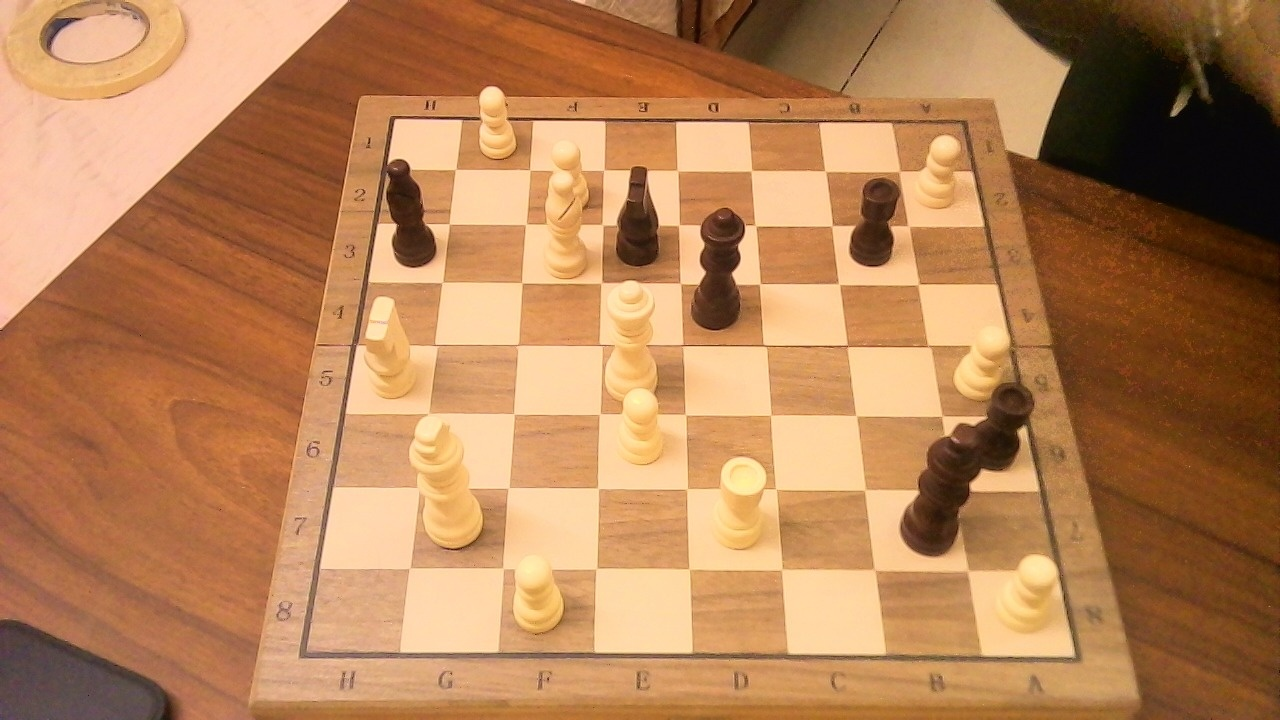B: (531, 161, 596, 282)
K: (405, 403, 493, 552)
N: (353, 324, 423, 404)
P: (989, 544, 1068, 637), (505, 544, 572, 638), (948, 316, 1019, 404), (606, 378, 670, 471), (910, 126, 970, 212), (468, 78, 523, 162), (539, 132, 594, 214)
Q: (603, 268, 668, 407)
R: (702, 446, 776, 556)
b: (378, 147, 443, 271)
k: (894, 408, 994, 563)
n: (608, 154, 672, 269)
q: (687, 196, 761, 334)
r: (963, 370, 1043, 472), (843, 163, 912, 272)
